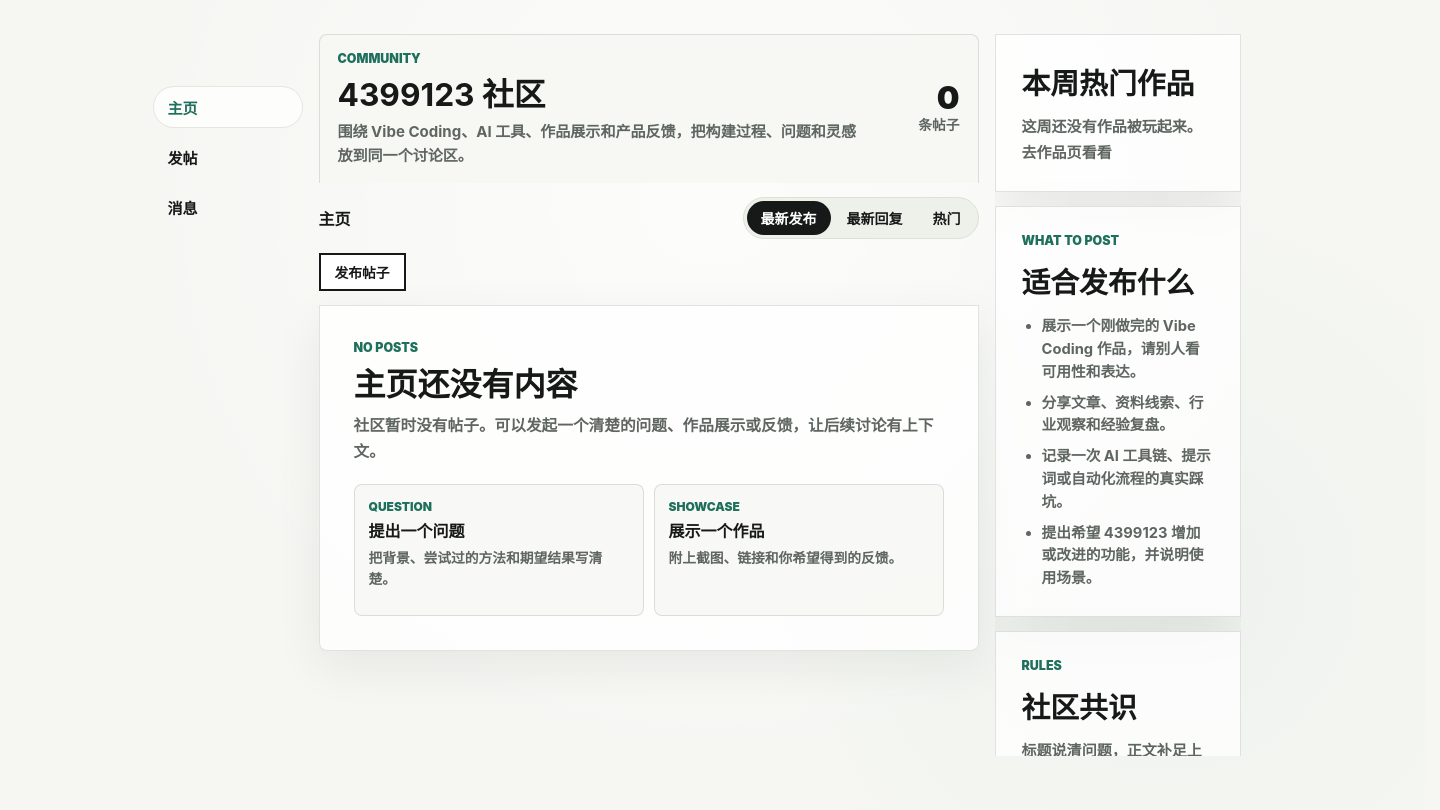
Test case: 社区主页发帖折叠与消息入口 › 侧栏发帖可以展开表单
The image size is (1440, 810).
Click the button "发帖" at (228, 157), box x1=152 y1=136 x2=302 y2=178
(page scrolled)
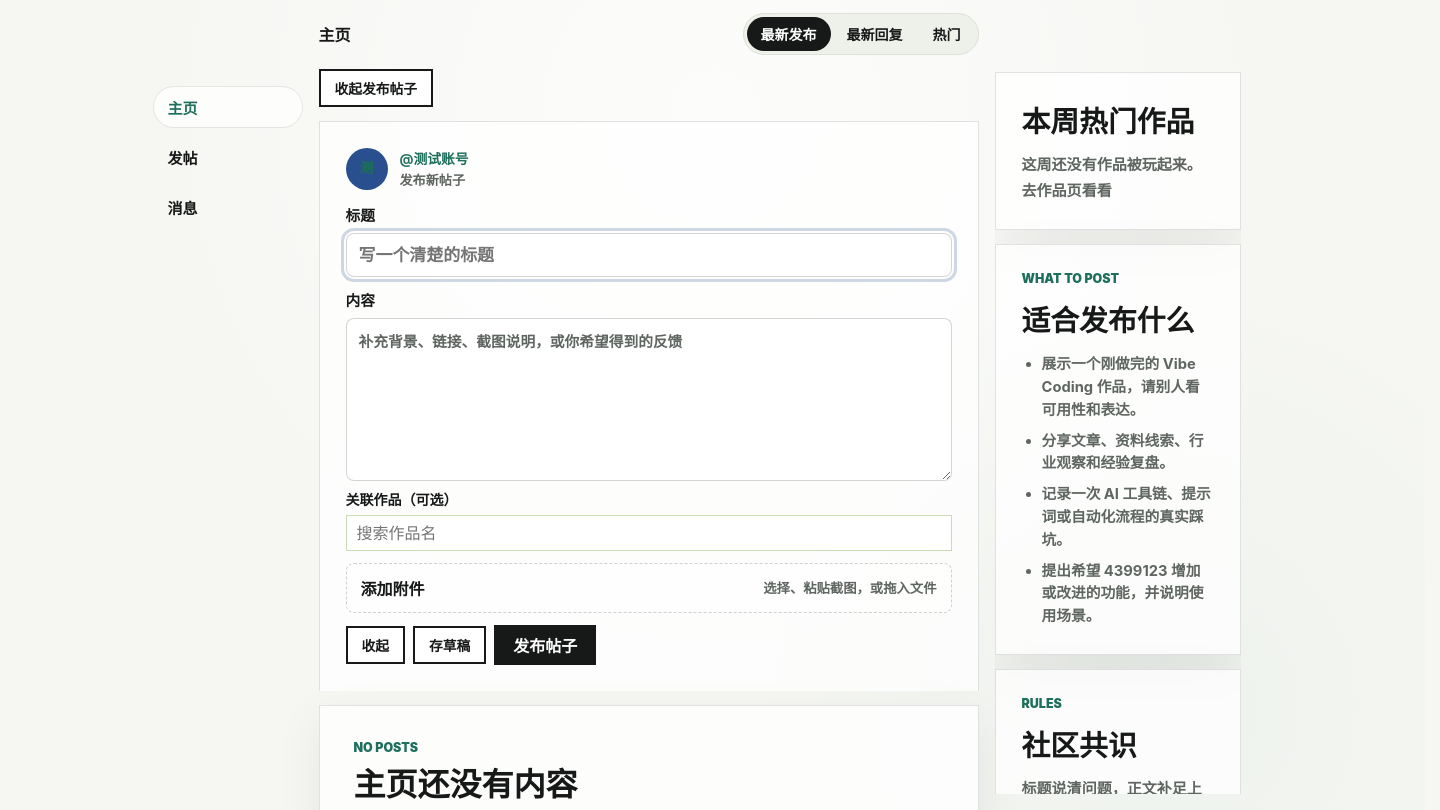
Result: the form with id "community-post-composer" is shown at x1=318 y1=121 x2=978 y2=691
